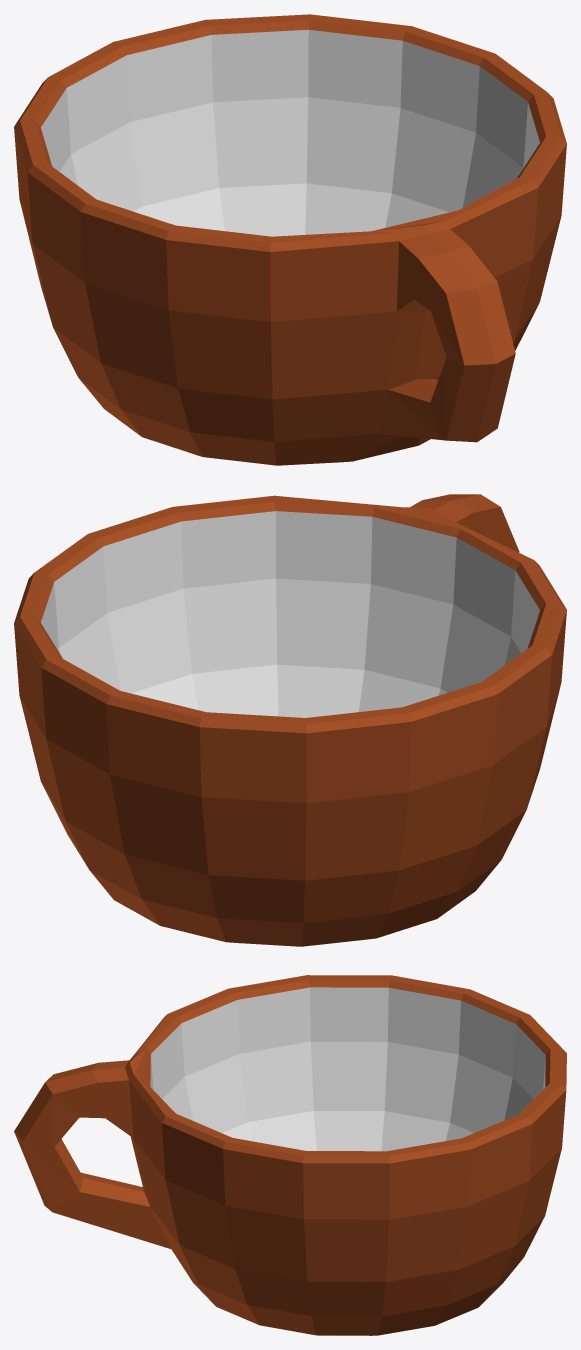
Rendered from 494 Cups.obj.
The picture shows the model from 3 angles, top to bottom: view 1: azimuth 30°, elevation 25°; view 2: azimuth 150°, elevation 25°; view 3: azimuth 270°, elevation 25°; orthographic projection. The views are drawn at different scales.
Parts seen in each view (by area): view 1: Cup; view 2: Cup; view 3: Cup.
Part boxes in pixels (x1,y1,x2,y2): Cup: (14, 14, 566, 465); Cup: (14, 494, 566, 946); Cup: (14, 975, 566, 1335).
Size of the model in its own units: 69.58 by 38.51 by 87.87.
Materials: 1 (1 with a texture image).
